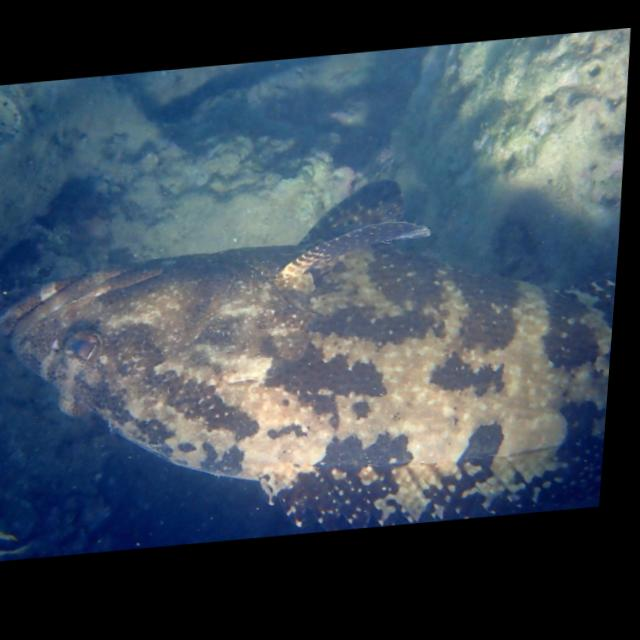Groupers: (0, 163, 624, 564)
